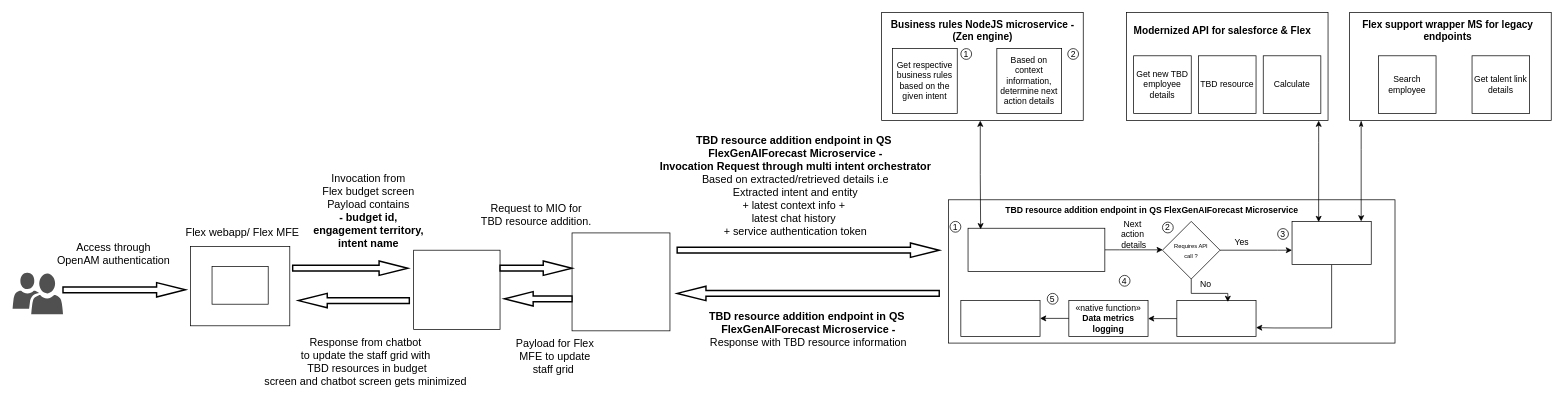
This 1564x407 diagram has some shape labels left out. The box of each missing label's shape, as (x1, y1, x2, y2) in pixels:
Flex budget screen: (211, 266, 268, 304)
Flex GenAI chatbot MFE: (413, 249, 500, 329)
Multi intent orchestrator: (571, 232, 670, 331)
«native function» Generate final output: (960, 300, 1040, 337)
«native function» Invoke API based on next action details: (1291, 221, 1371, 265)
«native function» Invoke business rules engine to get next action details: (967, 228, 1105, 271)
«sk plugin» Rephrase prompt question: (1176, 300, 1256, 337)
